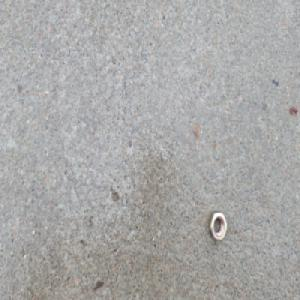Nut: (208, 209, 228, 242)
